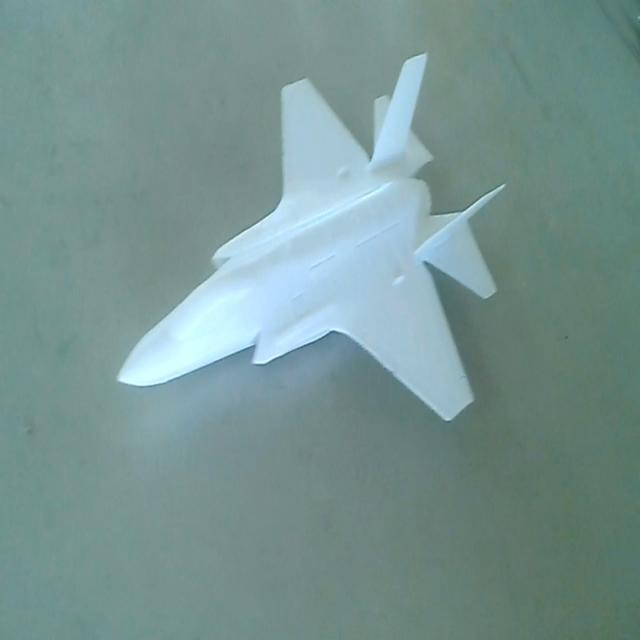Jet: (109, 43, 512, 440)
